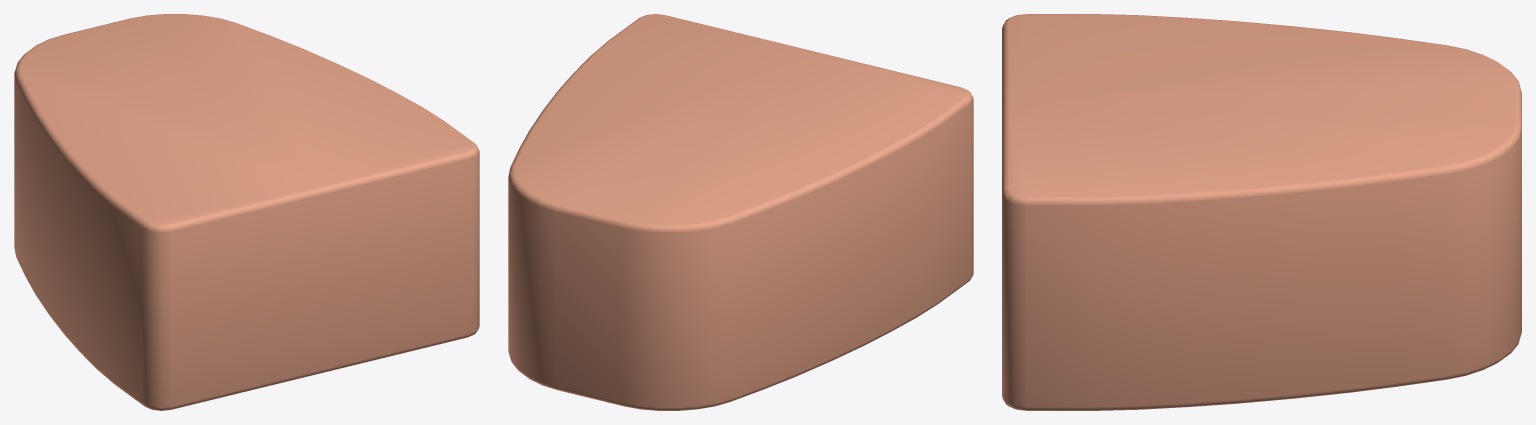
The model's file is island_lv18_2.fbx.
3 views of the same model, side by side, from view 1: azimuth 30°, elevation 25°; view 2: azimuth 150°, elevation 25°; view 3: azimuth 270°, elevation 25° (orthographic). The views are drawn at different scales.
Visible parts, largest first — view 1: island_lv18_2; view 2: island_lv18_2; view 3: island_lv18_2.
Boxes of the visible parts, box(x1,y1,x2,y2) form: island_lv18_2: box(14, 14, 479, 410); island_lv18_2: box(508, 14, 973, 410); island_lv18_2: box(1002, 14, 1521, 410).
Size of the model in its own units: 941 by 500 by 1101.
